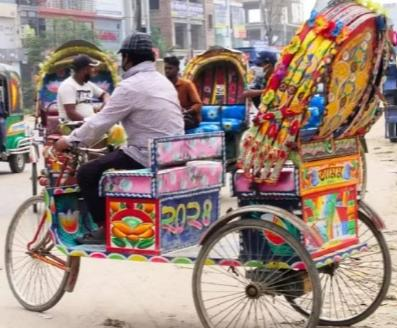Rickshaw: (26, 0, 396, 327), (6, 100, 392, 327), (182, 45, 252, 169), (36, 40, 118, 144), (93, 128, 124, 147)
